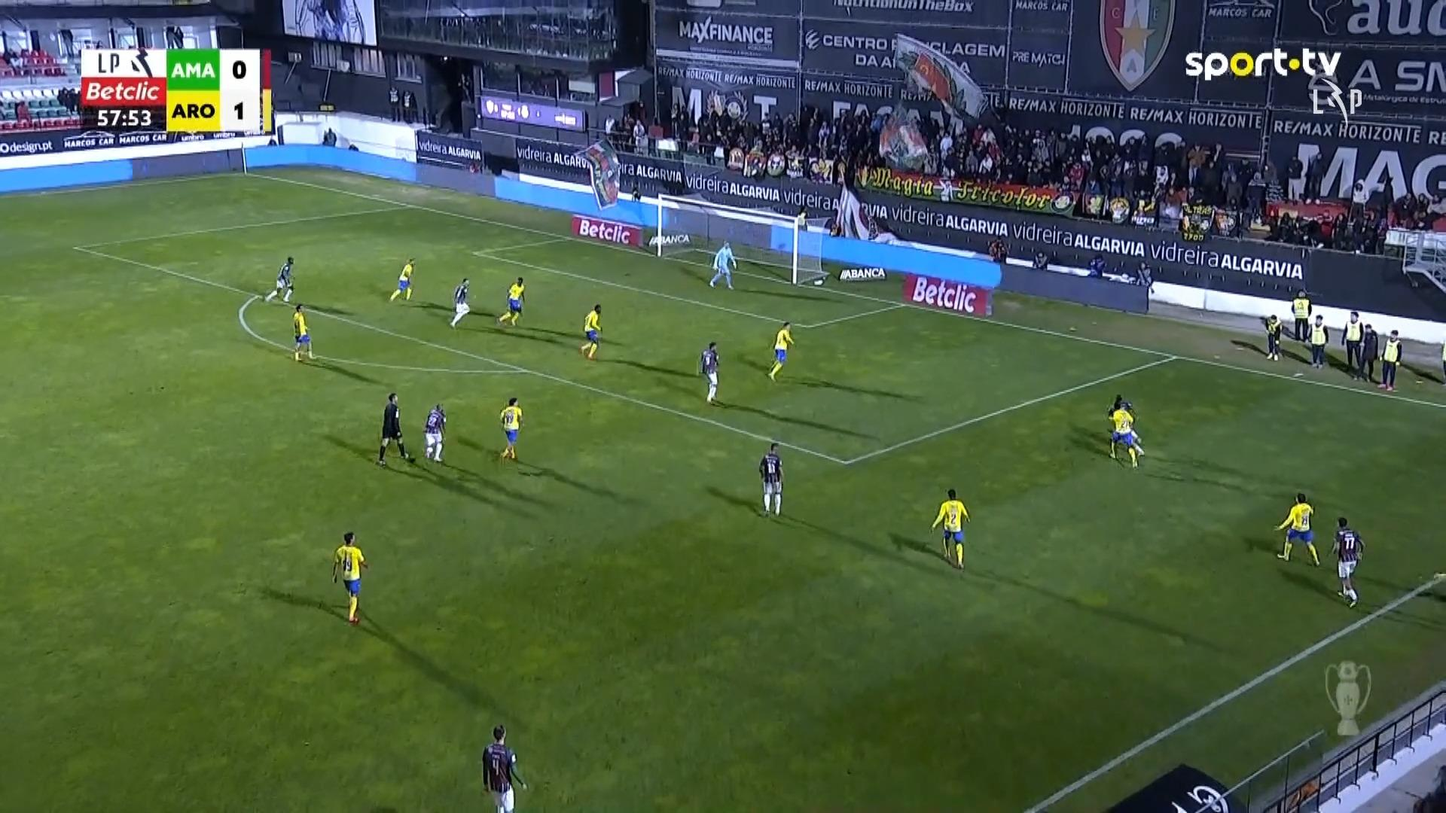goalkeeper: (708, 239, 737, 289)
player: (480, 723, 527, 811), (1272, 491, 1321, 566), (330, 531, 369, 624), (929, 488, 970, 569), (1329, 516, 1365, 607), (1106, 396, 1144, 468), (758, 442, 784, 516), (767, 320, 794, 381), (498, 396, 523, 460), (263, 255, 294, 303), (497, 276, 525, 327), (423, 403, 447, 462), (291, 303, 315, 361), (578, 303, 602, 359), (699, 341, 720, 402), (448, 277, 471, 328), (389, 257, 415, 302)
referee: (375, 392, 410, 466)
